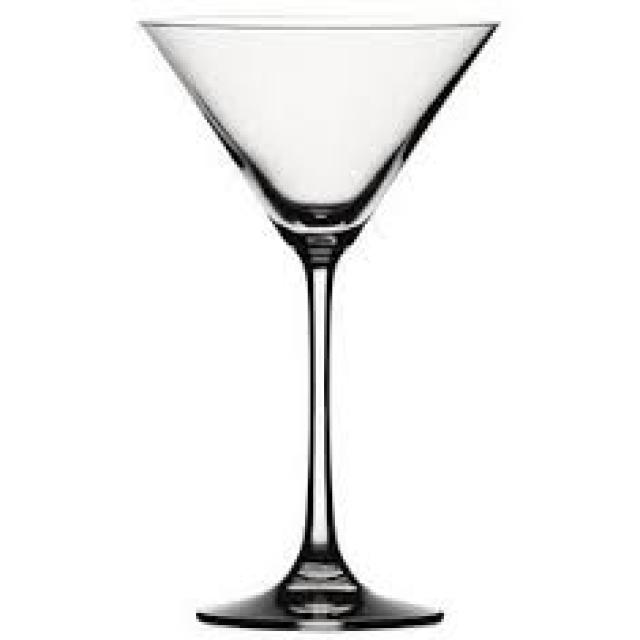glass: (134, 18, 496, 628)
